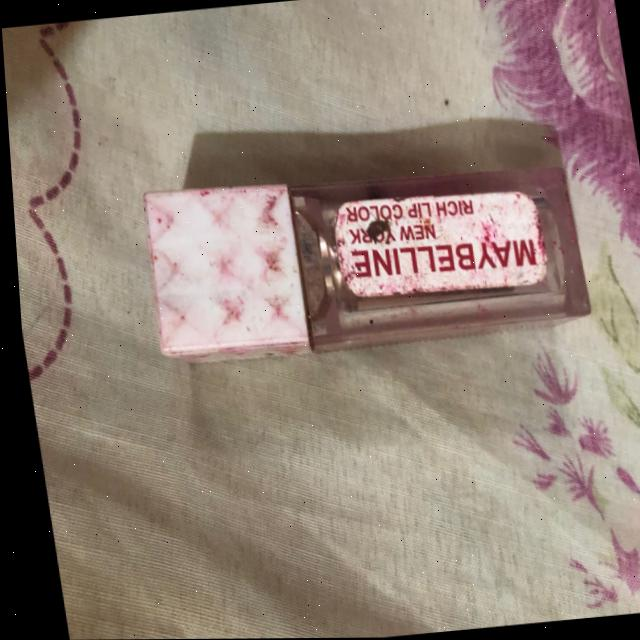lip stick: (99, 102, 617, 395)
